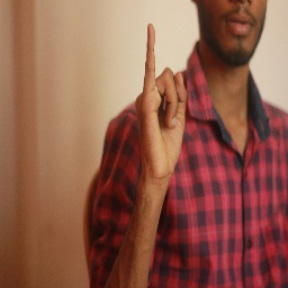I: (131, 21, 191, 172)
